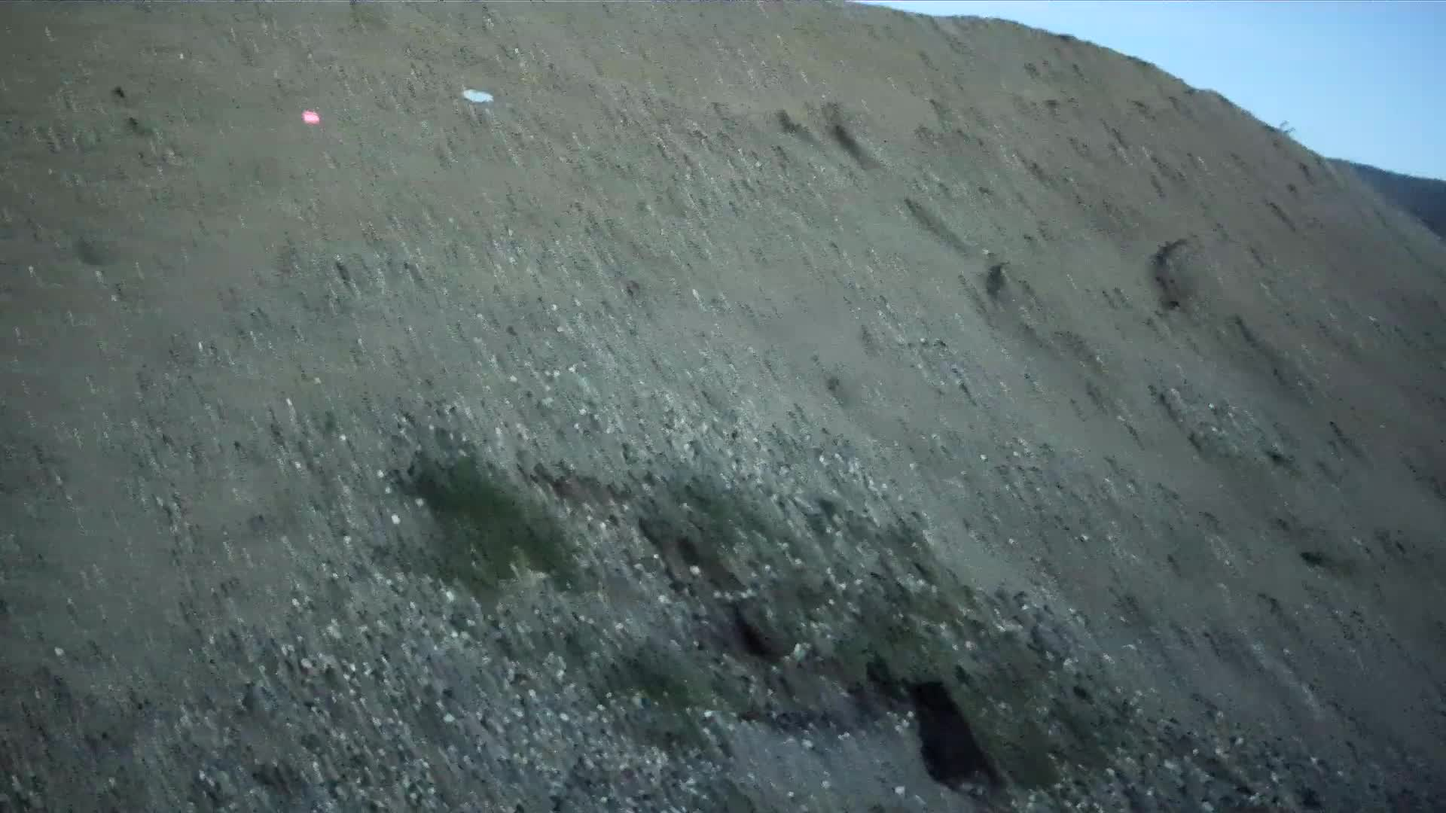Target: (461, 88, 496, 103)
